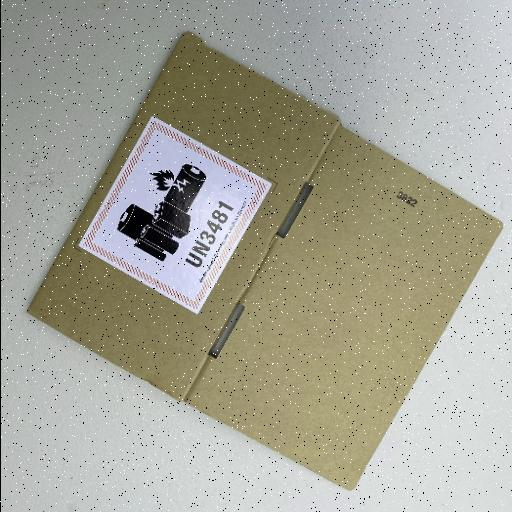Cardboard: (24, 30, 504, 492), (74, 114, 276, 316)
